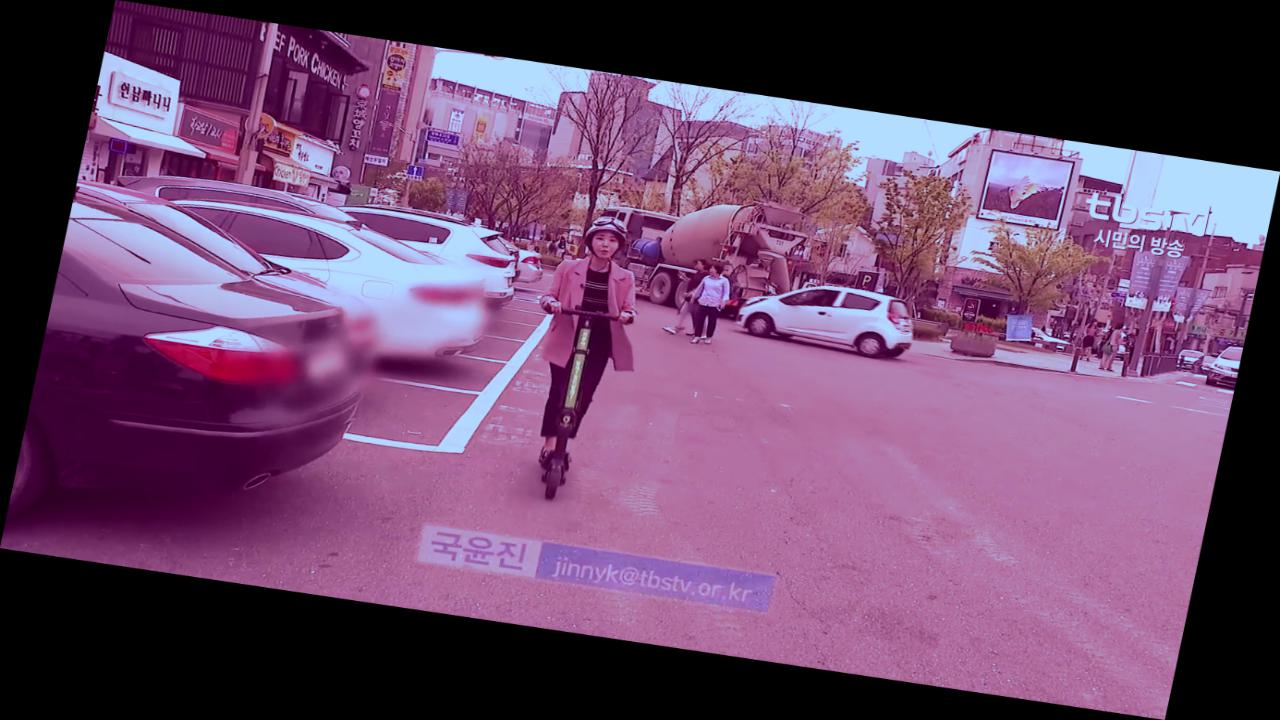helmet: (497, 208, 668, 511)
